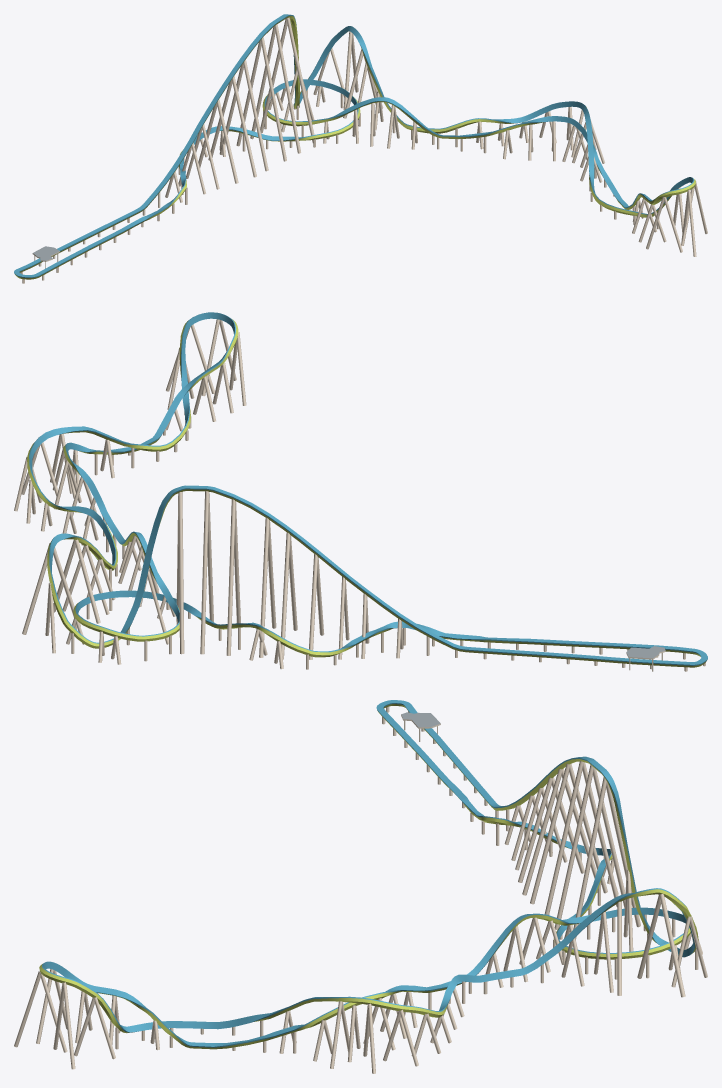
The model's file is carowinds-fury-325.glb.
The picture shows the model from 3 angles, top to bottom: view 1: azimuth 30°, elevation 25°; view 2: azimuth 150°, elevation 25°; view 3: azimuth 270°, elevation 25°; orthographic projection. The views are drawn at different scales.
Visible parts, largest first — view 1: Fury 325; view 2: Fury 325; view 3: Fury 325.
Boxes of the visible parts, x1,y1,x2,y2 form: Fury 325: (14,14,707,283); Fury 325: (14,312,707,671); Fury 325: (14,700,707,1073).
Bounding box in the file's own units: 484 × 102 × 390.
